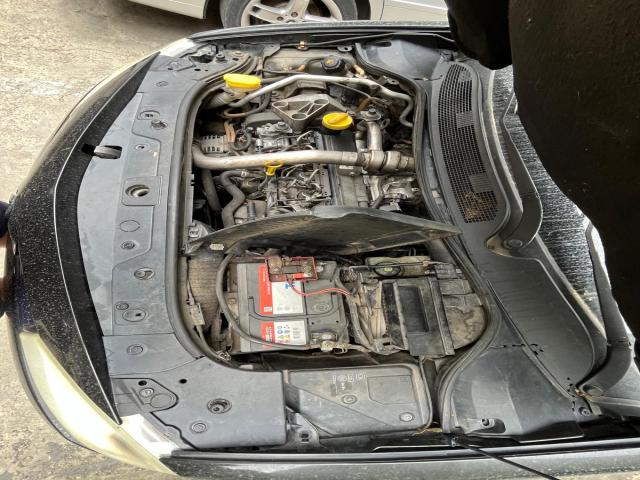accumulator: (227, 255, 350, 350), (232, 337, 278, 352)
alternator: (198, 135, 230, 157)
antifreeze_tank: (263, 48, 355, 78)
fuse_box: (285, 364, 432, 437)
high_pressure_pump: (255, 124, 292, 153)
